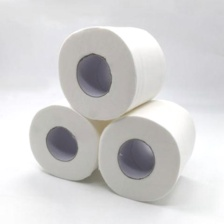tissue: (51, 20, 171, 125), (93, 92, 200, 206), (25, 93, 120, 185)
